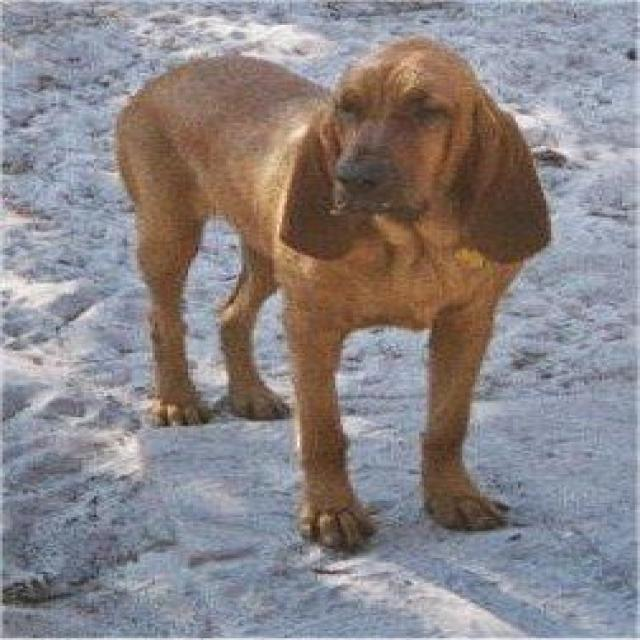bloodhound: (109, 32, 556, 547)
